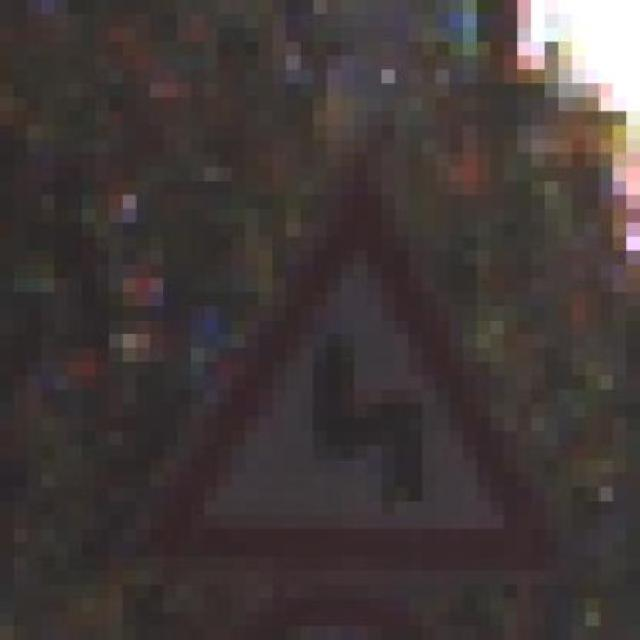Left Zig Zag Traffic: (122, 138, 586, 598)
